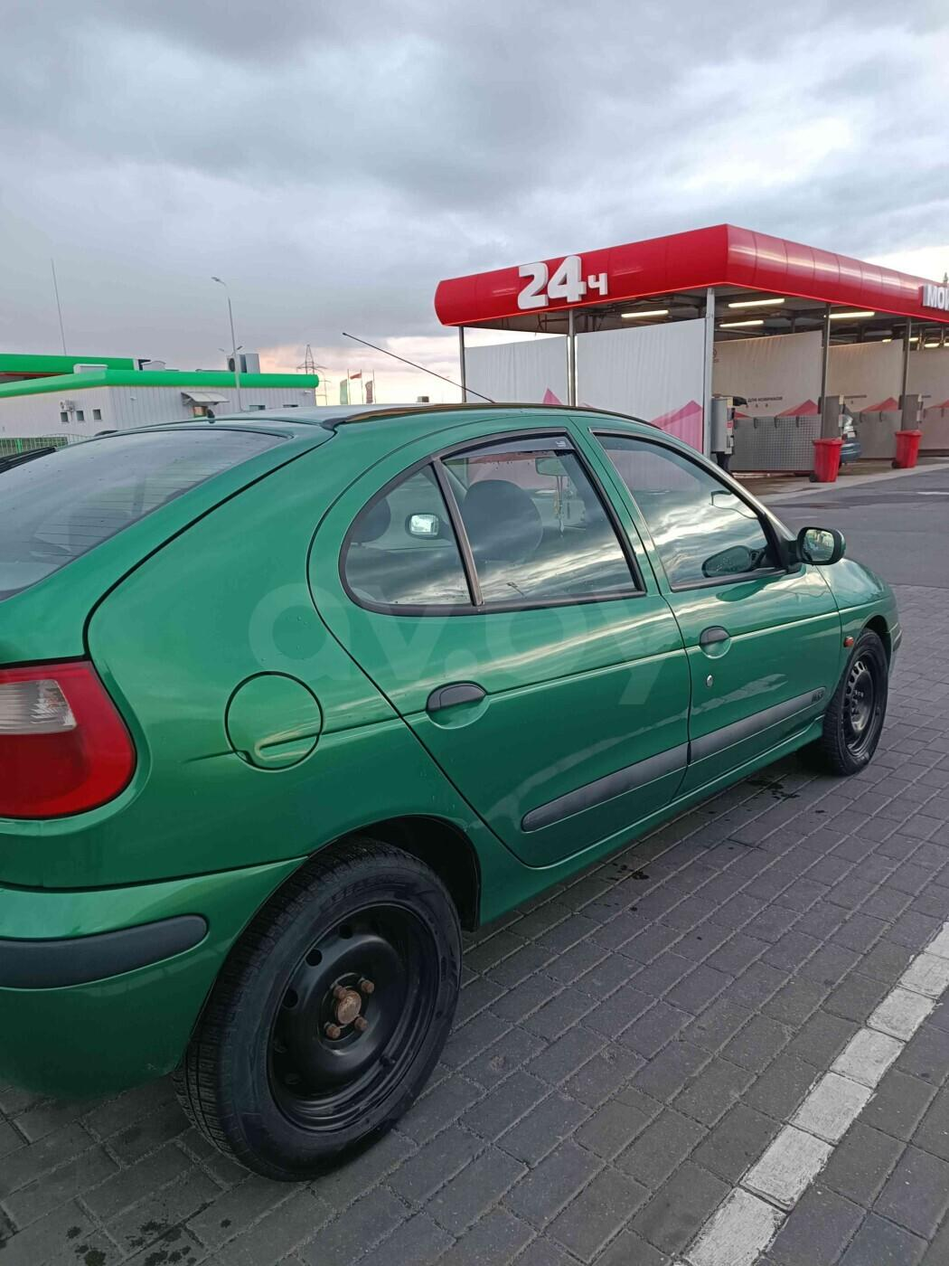Megane_1999-2003: (0, 392, 906, 1172)
